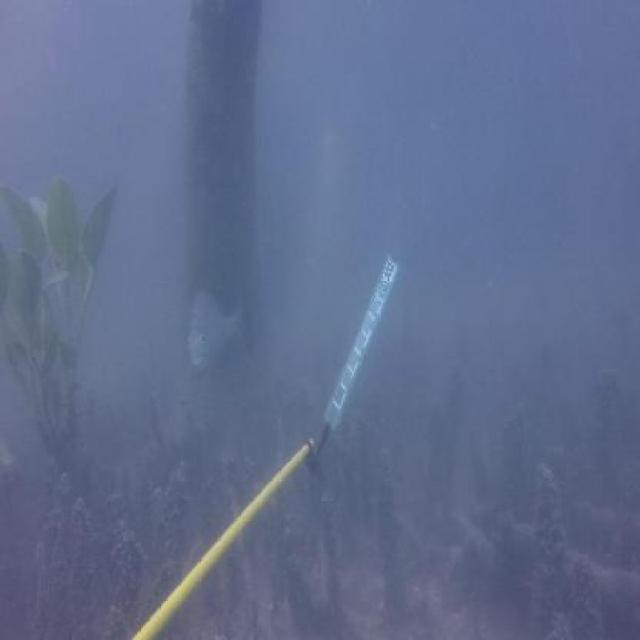Caranx: (0, 416, 15, 479)
acanthopagrus_palmaris: (184, 272, 253, 378)
